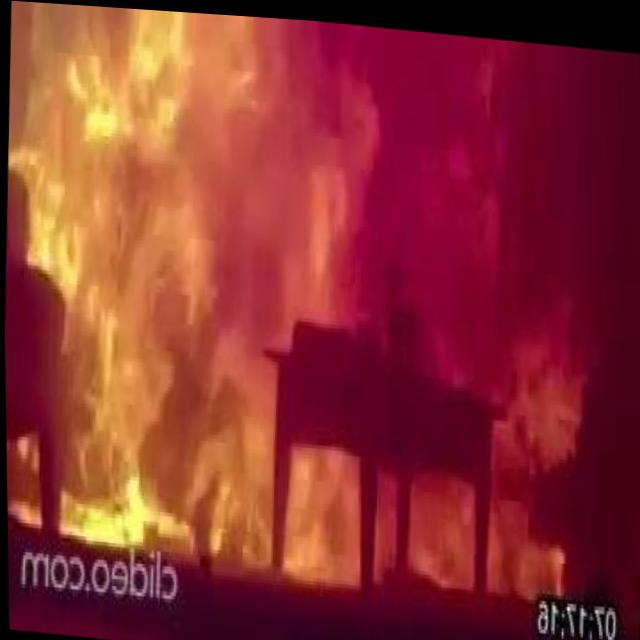fire: (19, 1, 290, 286), (275, 293, 277, 297)
